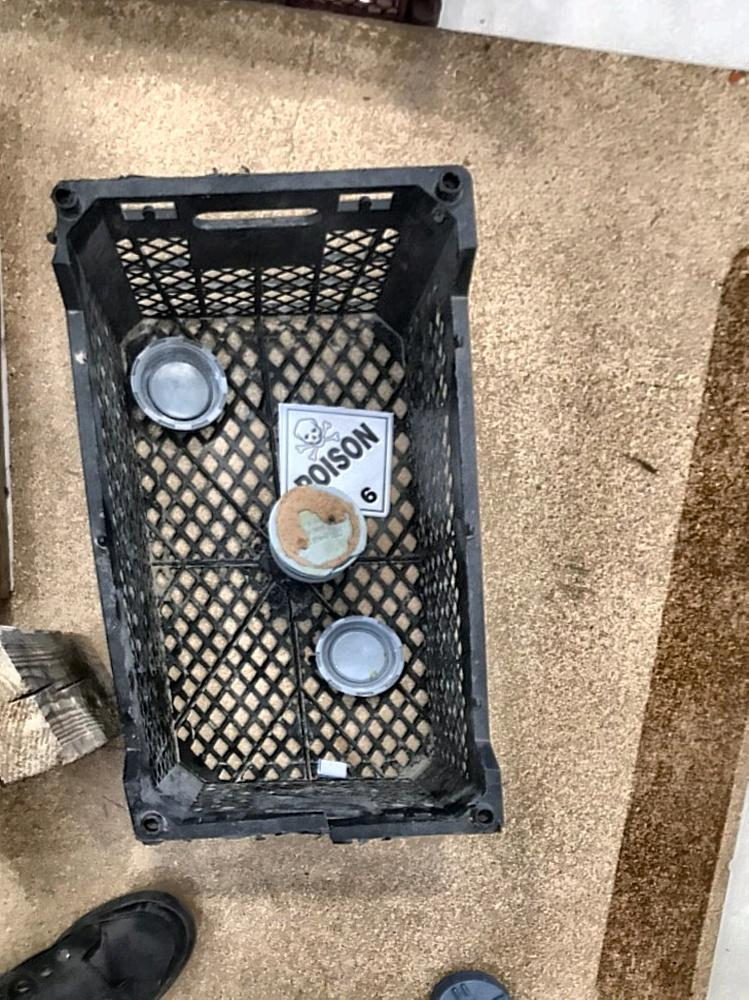poison: (274, 401, 396, 521)
